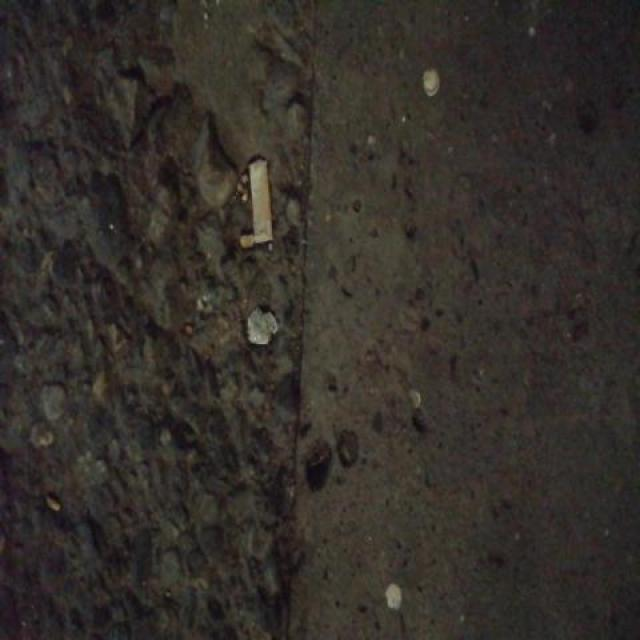non-organic waste: (245, 152, 272, 244)
